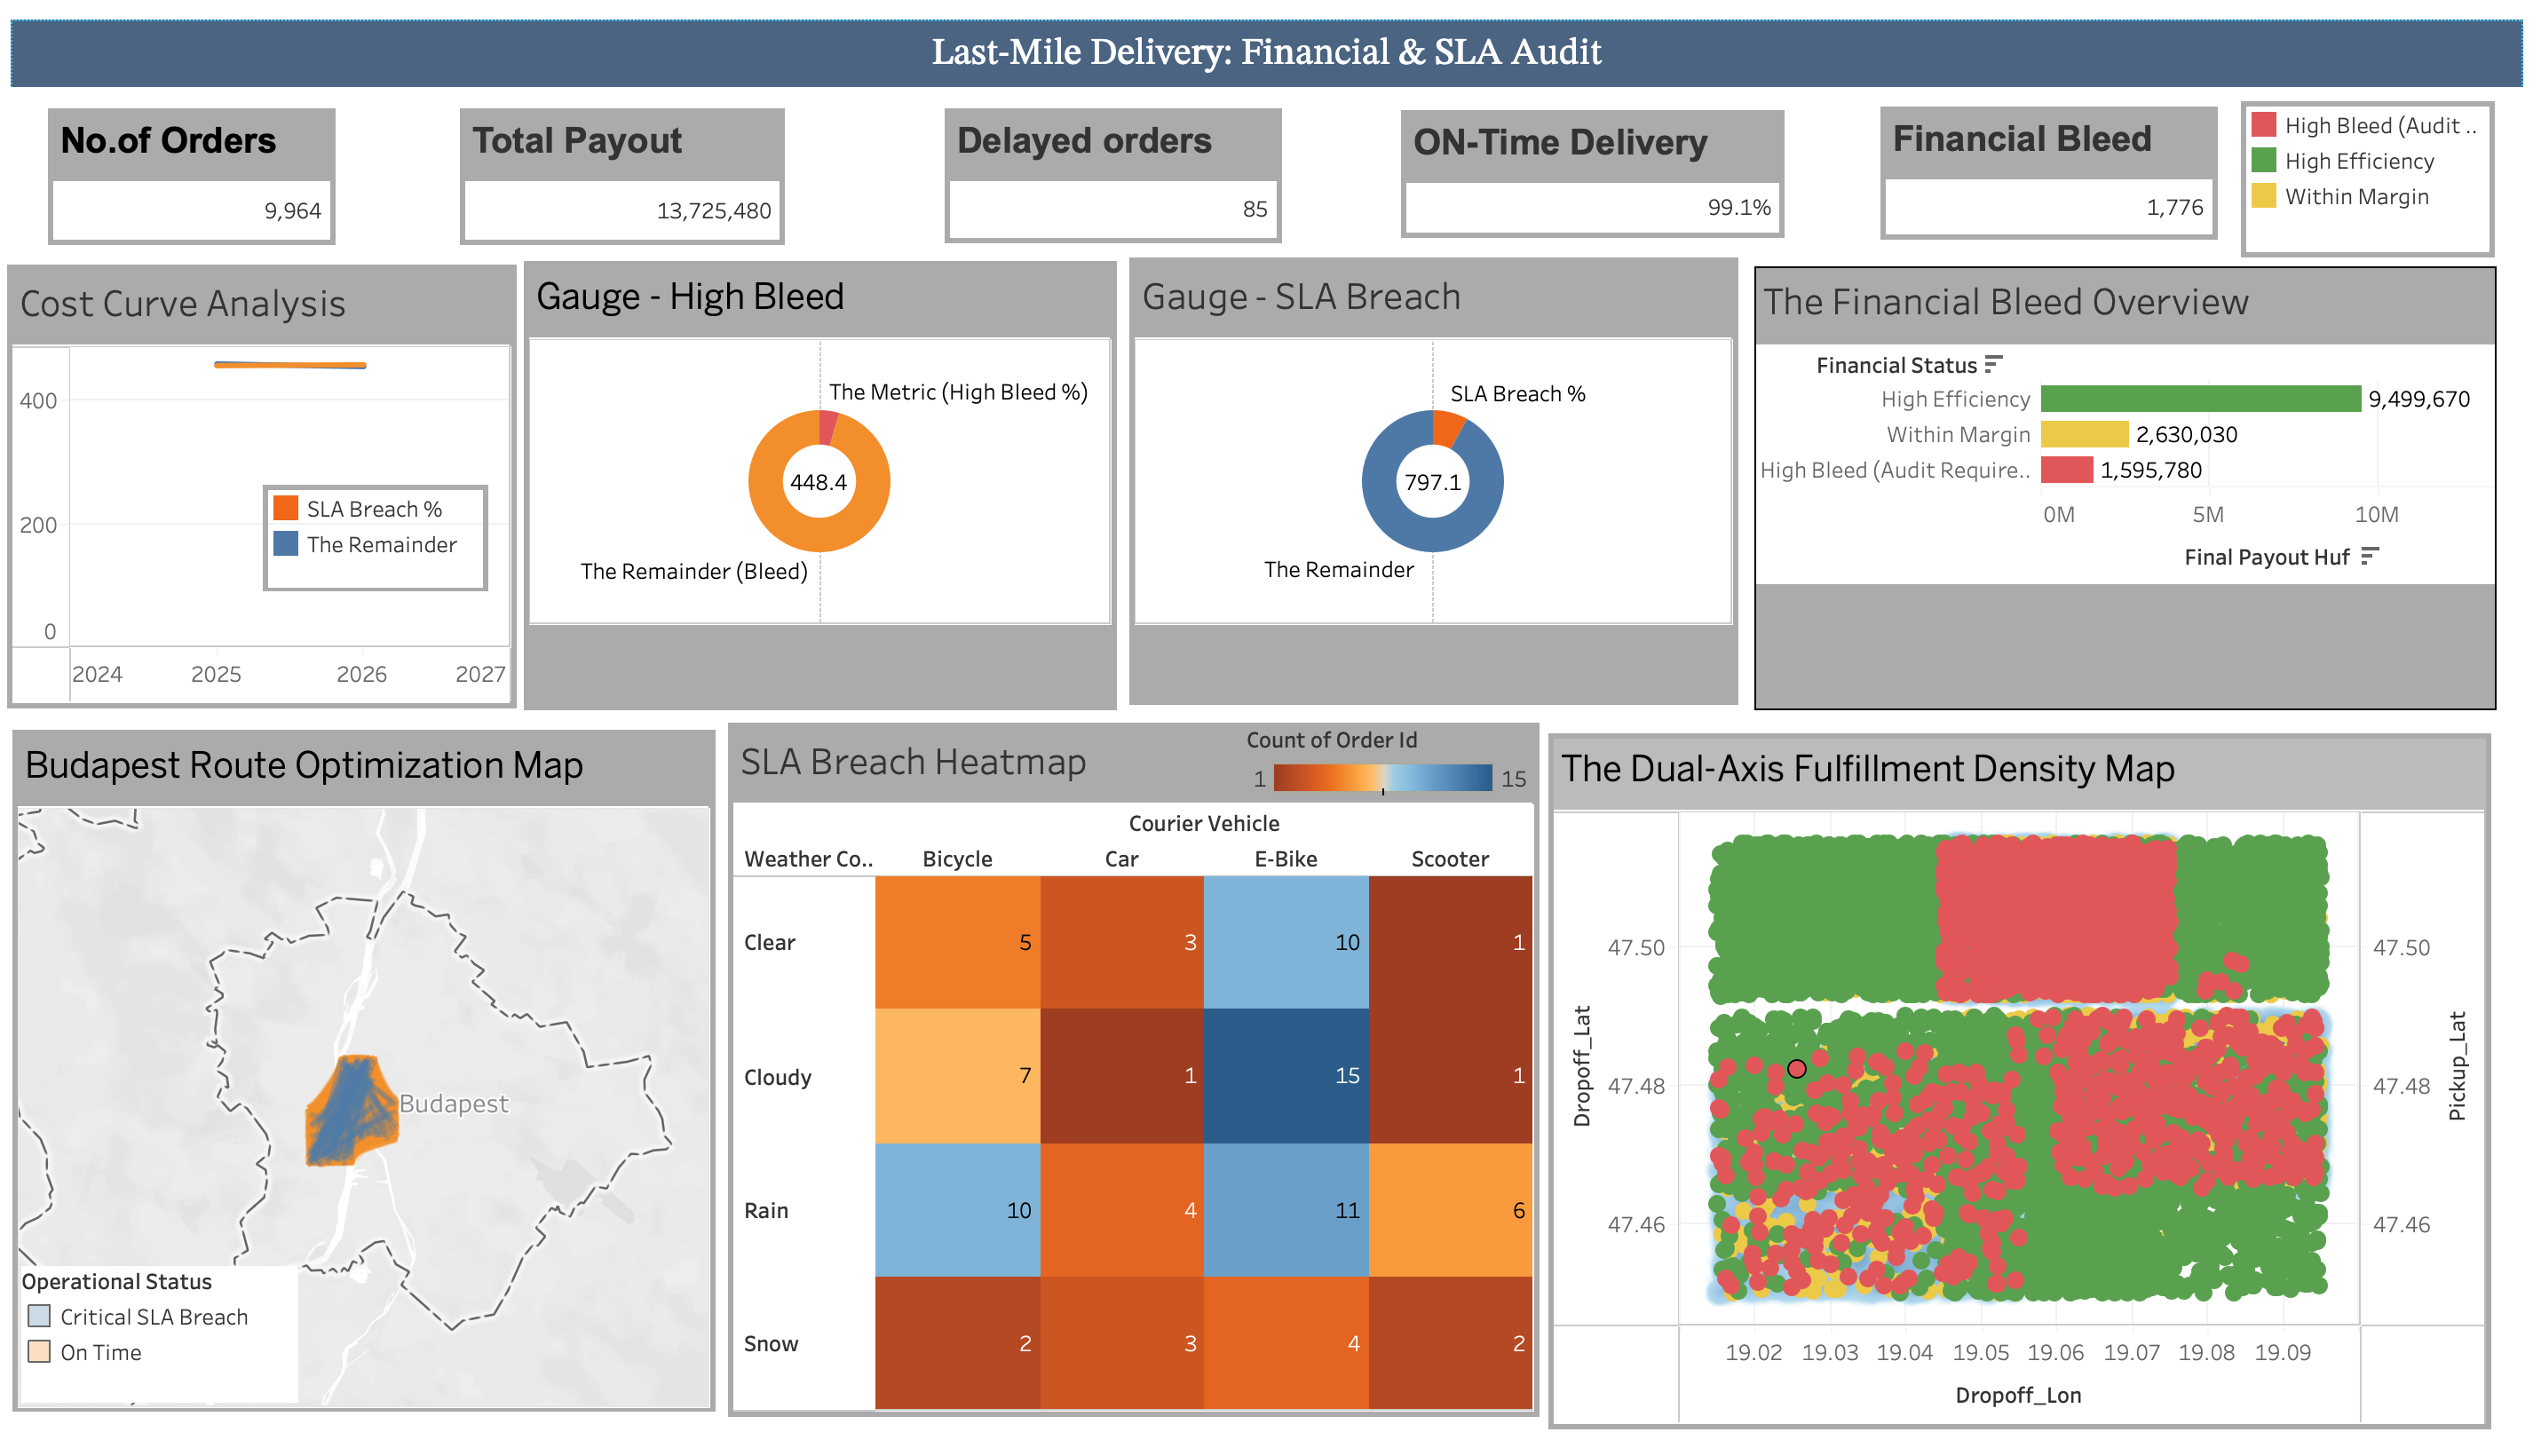

The dashboard page shown, as its layout file describes it:
{"tool":"tableau","page":{"name":"Dashboard 1","canvas":[1000,1000],"units":"permille","ordinal":0},"visuals":[{"type":"text","box":[10.6,24.9,982.9,46.7]},{"type":"legend","title":"The Financial Bleed Overview","param":"[federated.1km91tp10gfmxw11gti1c1b0tnik].[none:financial_status:nk]","box":[882.5,80.9,99.5,105.8]},{"type":"worksheet","title":"Financial Bleed","mark":"Automatic","box":[741.4,84,132.1,90.2]},{"type":"worksheet","title":"No of Orders","mark":"Automatic","box":[25.3,85.5,112.6,93.3]},{"type":"worksheet","title":"Total Payout (HUF)","mark":"Automatic","box":[186,85.5,127.2,93.3]},{"type":"worksheet","title":"Delayed Orders","mark":"Automatic","box":[376,85.5,132.1,91.8]},{"type":"worksheet","title":"On-Time Delivery","mark":"Automatic","box":[553.8,87.1,150.1,87.1]},{"type":"worksheet","title":"Gauge - SLA Breach","mark":"Pie","cols":["Calculation_999517646398996484","Calculation_999517646399057926"],"box":[447.8,186.6,238.2,303.3]},{"type":"worksheet","title":"Gauge - High Bleed","mark":"Pie","cols":["Calculation_999517646398996484","Calculation_999517646399057926"],"box":[211.3,189.7,231.7,304.8]},{"type":"worksheet","title":"Cost Curve Analysis","mark":"Automatic","rows":["actual_cost_per_km","cohort_avg_cost_per_km"],"cols":["shift_hour"],"box":[9,191.3,199.3,301.7]},{"type":"worksheet","title":"The Financial Bleed Overview","mark":"Automatic","rows":["financial_status"],"cols":["final_payout_huf"],"box":[692.5,192.8,290.4,301.7]},{"type":"legend","title":"Gauge - SLA Breach","param":"[federated.1km91tp10gfmxw11gti1c1b0tnik].[:Measure Names]","box":[109,340.6,87.9,73.1]},{"type":"worksheet","title":"SLA Breach Heatmap","mark":"Square","rows":["weather_condition"],"cols":["courier_vehicle"],"box":[291.2,502.3,317.3,471.2]},{"type":"legend","title":"SLA Breach Heatmap","param":"[federated.1km91tp10gfmxw11gti1c1b0tnik].[cnt:order_id:qk]","box":[493.5,503.9,113.4,65.3]},{"type":"worksheet","title":"Budapest Route Optimization Map","mark":"Automatic","box":[11.4,507,274.9,463.4]},{"type":"worksheet","title":"The Dual-Axis Fulfillment Density Map","mark":"Heatmap","rows":["Dropoff_Lat","Pickup_Lat"],"cols":["Dropoff_Lon"],"box":[611.8,510.1,368.7,472.8]},{"type":"legend","title":"Budapest Route Optimization Map","param":"[federated.1km91tp10gfmxw11gti1c1b0tnik].[none:operational_status:nk]","box":[14.7,870.9,108.2,93.3]}]}

Visuals, with their boxes on the dashboard's canvas, which has no fixed pixel size, in thousandths of its width and height (x1, y1, x2, y2). These are canvas units, not pixel positions in the 2541x1456 screenshot, which may show the page scaled, cropped or inside an application window:
text: <box>11,25,994,72</box>
"The Financial Bleed Overview" legend: <box>882,81,982,187</box>
"Financial Bleed" worksheet: <box>741,84,874,174</box>
"No of Orders" worksheet: <box>25,86,138,179</box>
"Total Payout (HUF)" worksheet: <box>186,86,313,179</box>
"Delayed Orders" worksheet: <box>376,86,508,177</box>
"On-Time Delivery" worksheet: <box>554,87,704,174</box>
"Gauge - SLA Breach" worksheet (Pie marks): <box>448,187,686,490</box>
"Gauge - High Bleed" worksheet (Pie marks): <box>211,190,443,494</box>
"Cost Curve Analysis" worksheet: <box>9,191,208,493</box>
"The Financial Bleed Overview" worksheet: <box>692,193,983,494</box>
"Gauge - SLA Breach" legend: <box>109,341,197,414</box>
"SLA Breach Heatmap" worksheet (Square marks): <box>291,502,608,974</box>
"SLA Breach Heatmap" legend: <box>494,504,607,569</box>
"Budapest Route Optimization Map" worksheet: <box>11,507,286,970</box>
"The Dual-Axis Fulfillment Density Map" worksheet (Heatmap marks): <box>612,510,980,983</box>
"Budapest Route Optimization Map" legend: <box>15,871,123,964</box>
